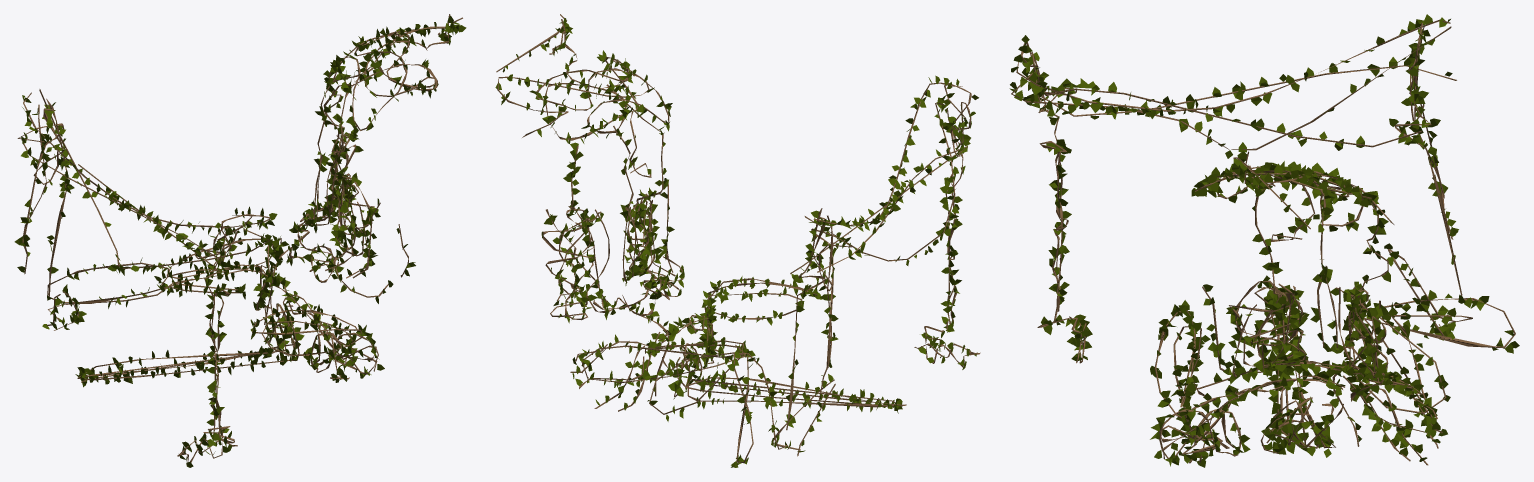
File: Boss_decor3.fbx
3 renders of one model, left to right at view 1: azimuth 30°, elevation 25°; view 2: azimuth 150°, elevation 25°; view 3: azimuth 270°, elevation 25°, orthographic. The views are drawn at different scales.
Visible parts, largest first — view 1: Decor 3; view 2: Decor 3; view 3: Decor 3.
Boxes of the visible parts, x1=… form: Decor 3: x1=14, y1=14, x2=466, y2=467; Decor 3: x1=495, y1=14, x2=980, y2=467; Decor 3: x1=1009, y1=14, x2=1519, y2=467.
Size of the model in its own units: 14658 by 11419 by 13250.
